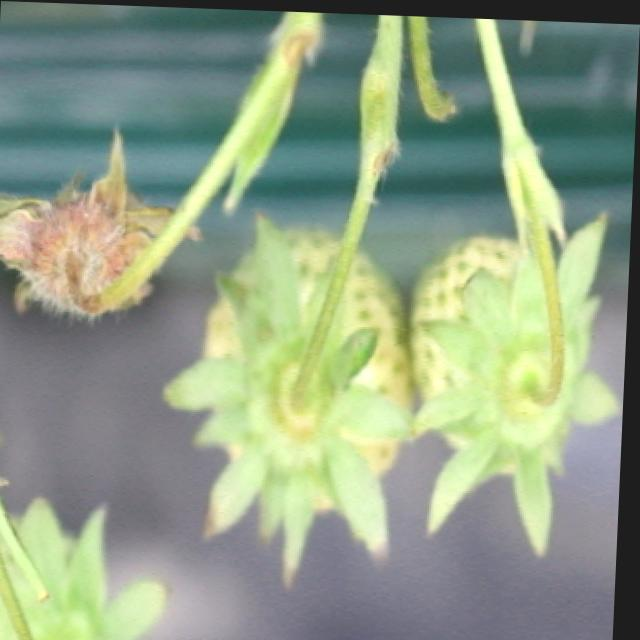Gray Mold: (0, 124, 205, 315)
